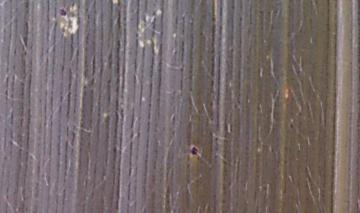tarspot: (186, 142, 202, 160), (54, 4, 70, 19)
